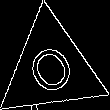O_SE: (21, 35, 82, 102)
